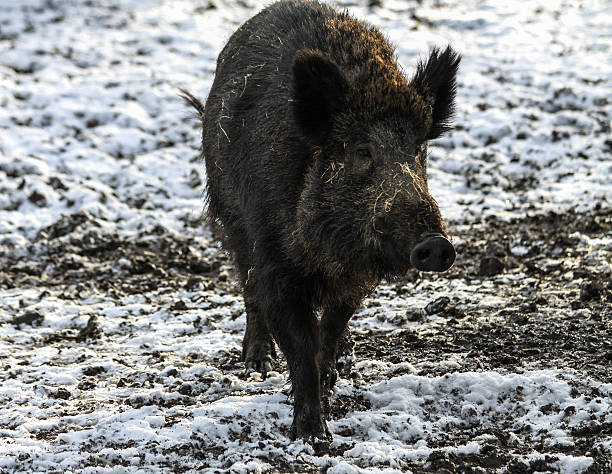pig: (208, 46, 461, 288)
